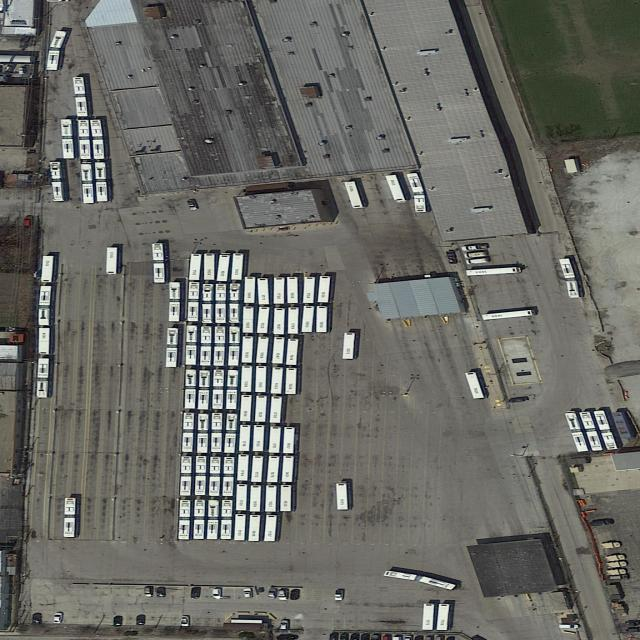large-vehicle: (384, 569, 459, 591), (564, 411, 592, 453), (43, 30, 71, 71), (557, 258, 584, 299), (579, 411, 606, 452), (403, 173, 431, 212), (593, 410, 618, 451), (71, 76, 92, 118), (59, 119, 79, 160), (89, 119, 109, 160), (49, 161, 68, 203), (37, 286, 57, 325), (151, 243, 170, 284), (94, 161, 113, 202), (178, 455, 196, 497), (36, 359, 55, 398), (164, 327, 182, 368), (79, 163, 97, 204), (167, 282, 185, 323), (187, 281, 204, 324), (222, 412, 239, 454), (224, 369, 241, 410), (181, 412, 198, 453), (221, 456, 238, 497), (385, 174, 409, 203), (464, 371, 488, 400), (182, 369, 199, 409), (62, 498, 79, 538), (482, 309, 538, 321), (199, 325, 215, 366), (212, 326, 228, 367), (197, 369, 213, 410), (178, 499, 194, 540), (219, 499, 235, 540), (344, 181, 367, 209), (227, 326, 243, 366), (193, 456, 209, 496), (185, 325, 200, 366), (212, 369, 227, 410), (196, 413, 211, 454), (211, 412, 226, 453), (228, 283, 243, 324), (208, 456, 223, 497), (192, 499, 207, 540), (206, 499, 221, 540), (77, 120, 92, 160), (465, 266, 523, 276), (214, 283, 228, 324), (202, 284, 216, 324), (104, 247, 123, 274), (263, 514, 282, 541), (336, 481, 353, 511), (283, 367, 301, 395), (280, 455, 298, 483), (341, 332, 359, 360), (271, 336, 288, 365), (317, 275, 334, 304), (253, 365, 270, 393), (269, 396, 286, 424), (256, 306, 273, 334), (216, 254, 233, 282), (436, 603, 453, 631), (271, 366, 287, 395), (254, 394, 270, 423), (286, 276, 302, 305), (41, 256, 58, 283), (37, 328, 54, 355), (267, 426, 284, 453), (280, 484, 297, 511), (234, 484, 251, 511), (264, 485, 281, 512), (237, 424, 253, 452), (301, 305, 317, 333), (315, 305, 331, 333), (256, 336, 272, 364), (286, 338, 302, 366), (188, 253, 204, 281), (302, 276, 318, 304), (252, 424, 268, 452), (251, 455, 267, 483), (267, 455, 283, 483), (248, 514, 264, 542), (257, 278, 273, 305), (286, 306, 301, 334), (239, 394, 254, 422), (231, 253, 246, 281), (283, 426, 298, 454), (233, 513, 248, 541), (241, 336, 256, 363), (273, 307, 287, 335), (243, 306, 257, 334), (244, 276, 258, 304), (273, 277, 287, 305), (203, 253, 217, 280), (237, 454, 251, 481), (250, 485, 264, 512), (422, 603, 436, 630), (241, 365, 254, 393)
small-vehicle: (463, 251, 489, 259), (466, 257, 491, 265), (462, 244, 489, 251), (509, 395, 532, 403), (190, 586, 203, 599), (52, 612, 64, 624), (333, 589, 345, 601), (134, 615, 147, 626), (187, 199, 199, 210), (32, 613, 43, 625), (266, 588, 278, 599), (289, 589, 301, 600), (279, 619, 291, 630), (589, 520, 611, 526), (212, 588, 223, 599), (112, 616, 123, 627), (278, 589, 288, 601), (144, 586, 154, 597), (156, 587, 166, 598), (180, 616, 190, 627), (243, 587, 253, 598), (558, 624, 580, 629), (18, 68, 25, 75)
